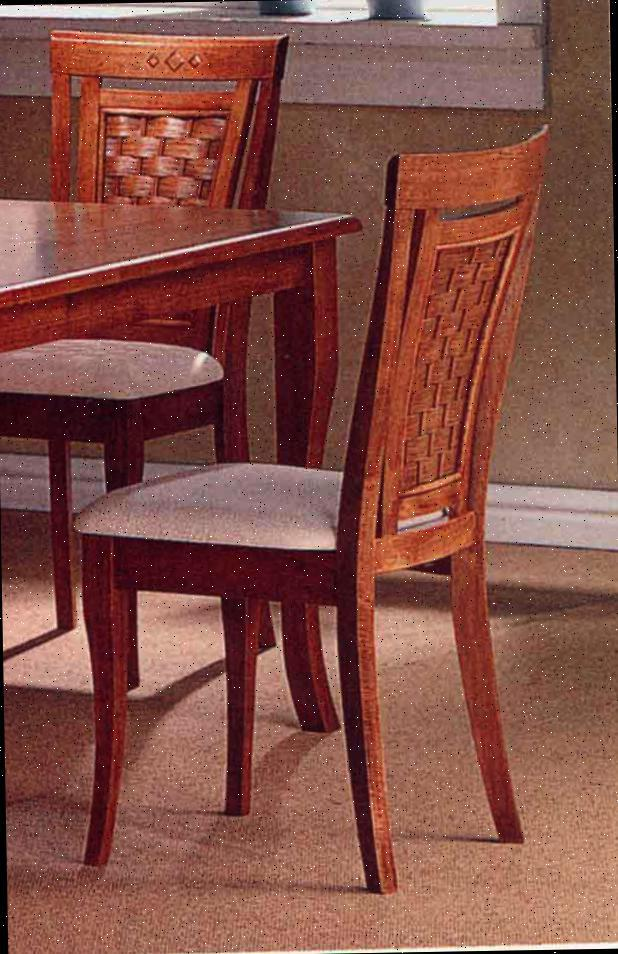Mesa: (0, 187, 343, 741)
Silla: (57, 126, 563, 902), (0, 28, 305, 676)
